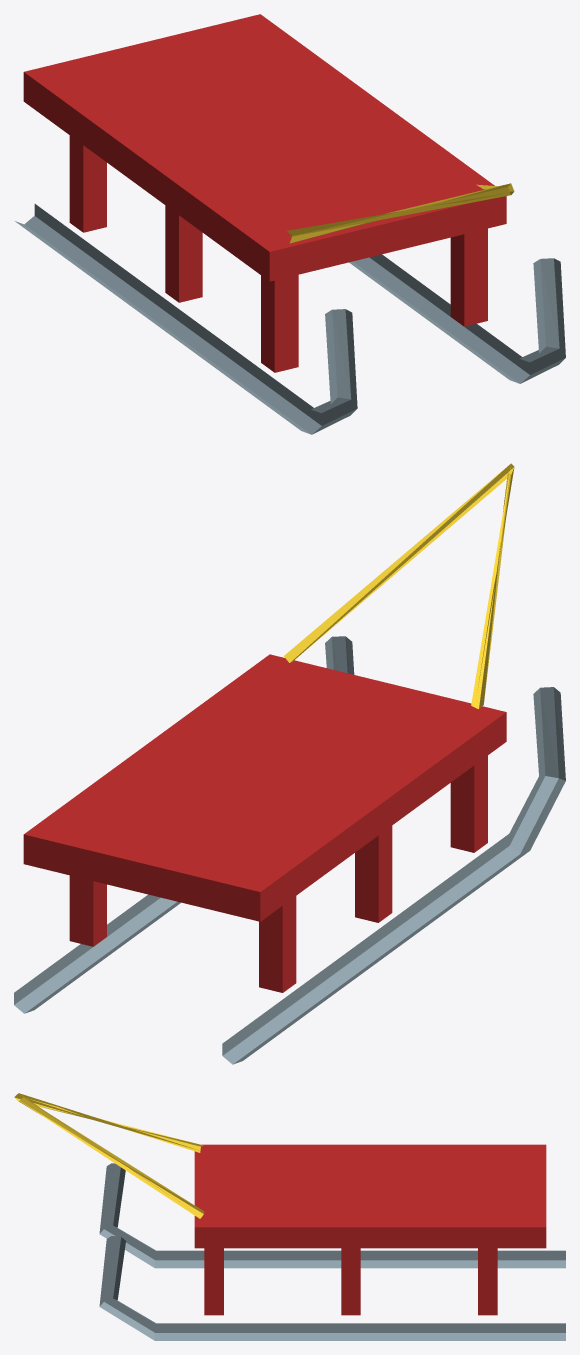
File: kalke.glb
3 views of the same model, one above another, from view 1: azimuth 30°, elevation 25°; view 2: azimuth 150°, elevation 25°; view 3: azimuth 270°, elevation 25° (orthographic). The views are drawn at different scales.
Visible parts, largest first — view 1: kalke; view 2: kalke; view 3: kalke.
Part boxes in pixels (x1=…): kalke: x1=15, y1=14, x2=565, y2=434; kalke: x1=14, y1=463, x2=565, y2=1064; kalke: x1=14, y1=1093, x2=565, y2=1340.
Size of the model in its own units: 0.4999 by 0.597 by 1.41.
